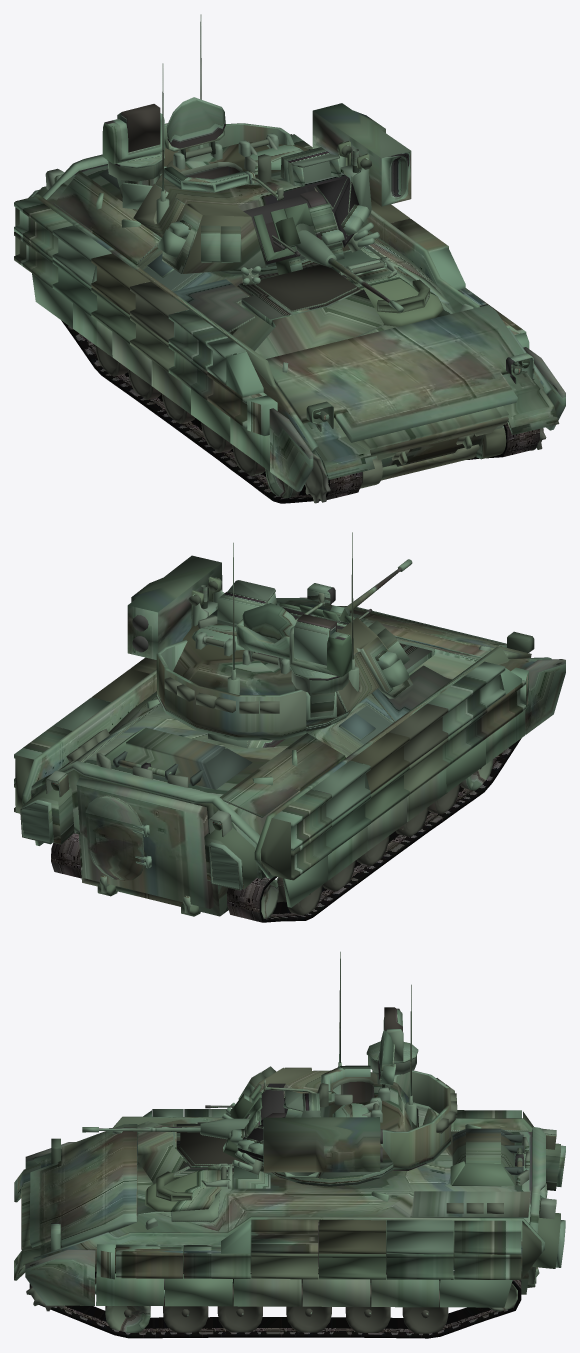
3 views of the same model, one above another, from view 1: azimuth 30°, elevation 25°; view 2: azimuth 150°, elevation 25°; view 3: azimuth 270°, elevation 25° (orthographic). The views are drawn at different scales.
Parts seen in each view (by area): view 1: Object_4, Object_5, Object_3; view 2: Object_4, Object_5, Object_3; view 3: Object_4, Object_5, Object_3.
Boxes of the visible parts, x1,y1,x2,y2 form: Object_4: (14,14,565,503); Object_5: (47,103,559,498); Object_3: (61,320,539,503); Object_4: (14,532,565,916); Object_5: (31,555,531,918); Object_3: (51,738,521,922); Object_4: (21,951,565,1333); Object_5: (14,1008,532,1332); Object_3: (29,1271,521,1338).
Bounding box in the file's own units: 3.51 × 4.14 × 6.84.
3 materials, 2 textured.
